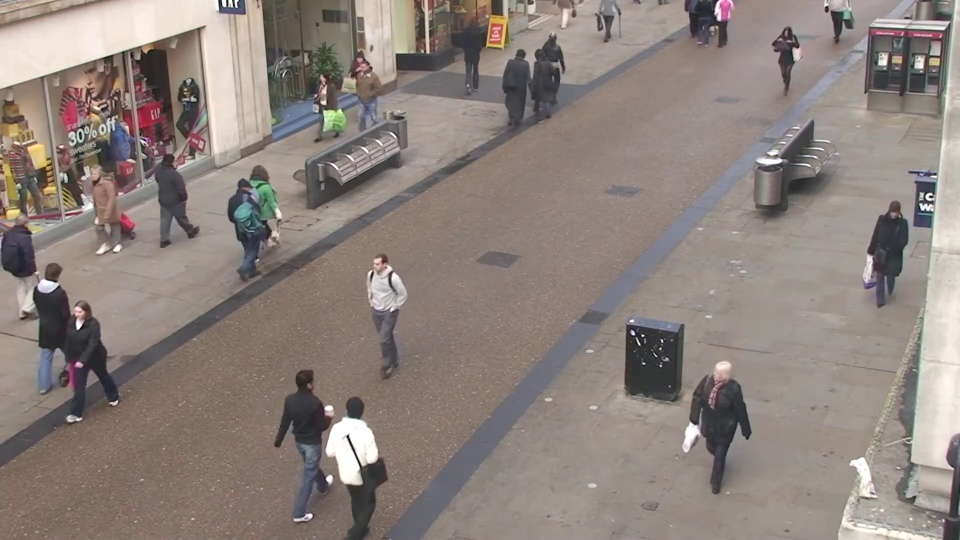pedestrian: (339, 377, 397, 538), (43, 297, 107, 438), (290, 352, 348, 506), (686, 357, 742, 515), (43, 251, 102, 380), (10, 205, 68, 323), (348, 256, 396, 389), (862, 200, 912, 320), (67, 167, 117, 273), (236, 169, 277, 277), (161, 146, 203, 247), (252, 156, 292, 261), (305, 69, 336, 151), (347, 62, 376, 141), (345, 53, 374, 130), (768, 24, 797, 97), (509, 43, 535, 119), (523, 44, 549, 119), (545, 28, 569, 99), (460, 13, 484, 80)
